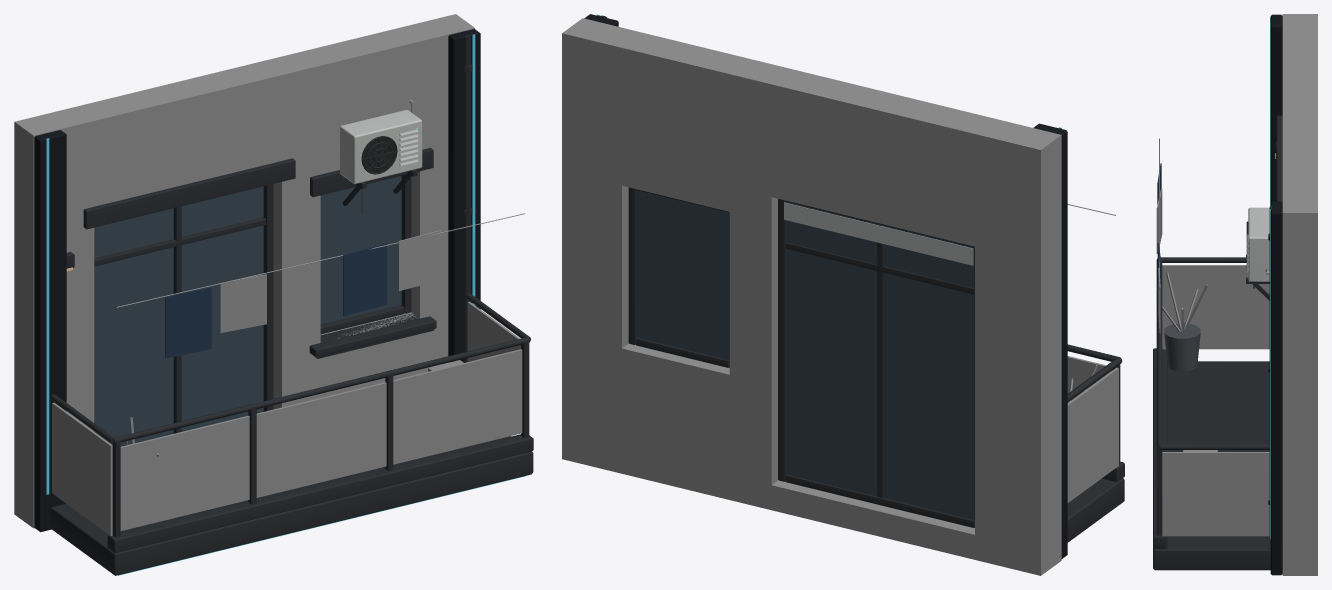
Rendered from Building_Facade_Panel_Balcony.fbx.
3 views of the same model, side by side, from view 1: azimuth 30°, elevation 25°; view 2: azimuth 150°, elevation 25°; view 3: azimuth 270°, elevation 25° (orthographic). The views are drawn at different scales.
Parts seen in each view (by area): view 1: Building_Facade_Panel_Balcony_LOD0; view 2: Building_Facade_Panel_Balcony_LOD0; view 3: Building_Facade_Panel_Balcony_LOD0.
Part boxes in pixels (bbox=[...]): Building_Facade_Panel_Balcony_LOD0: bbox=[14, 14, 533, 575]; Building_Facade_Panel_Balcony_LOD0: bbox=[562, 14, 1124, 575]; Building_Facade_Panel_Balcony_LOD0: bbox=[1153, 14, 1317, 575].
Size of what is drawn, in the model's own units: 4 by 3.41 by 1.4.
